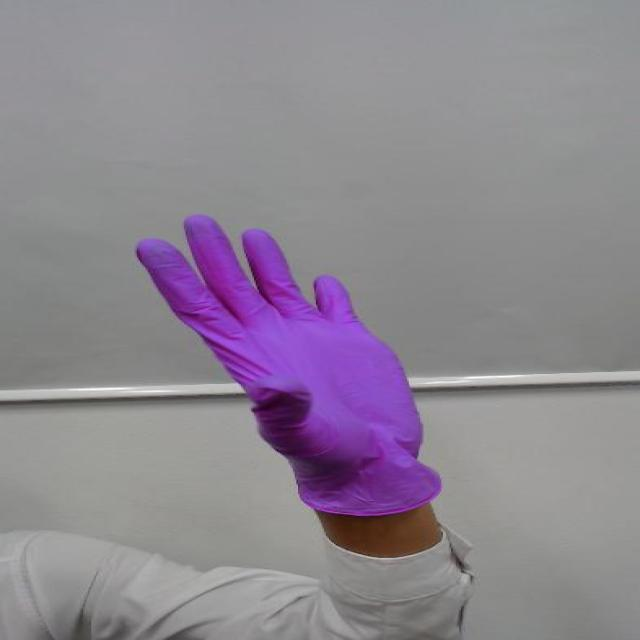gloved_hand: (106, 204, 435, 440)
